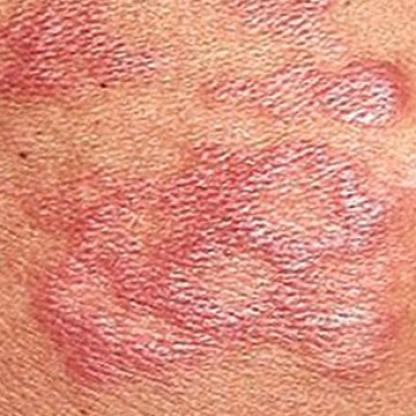Leprosy: (24, 140, 402, 397), (0, 0, 174, 106), (206, 60, 415, 131), (217, 0, 364, 51)
